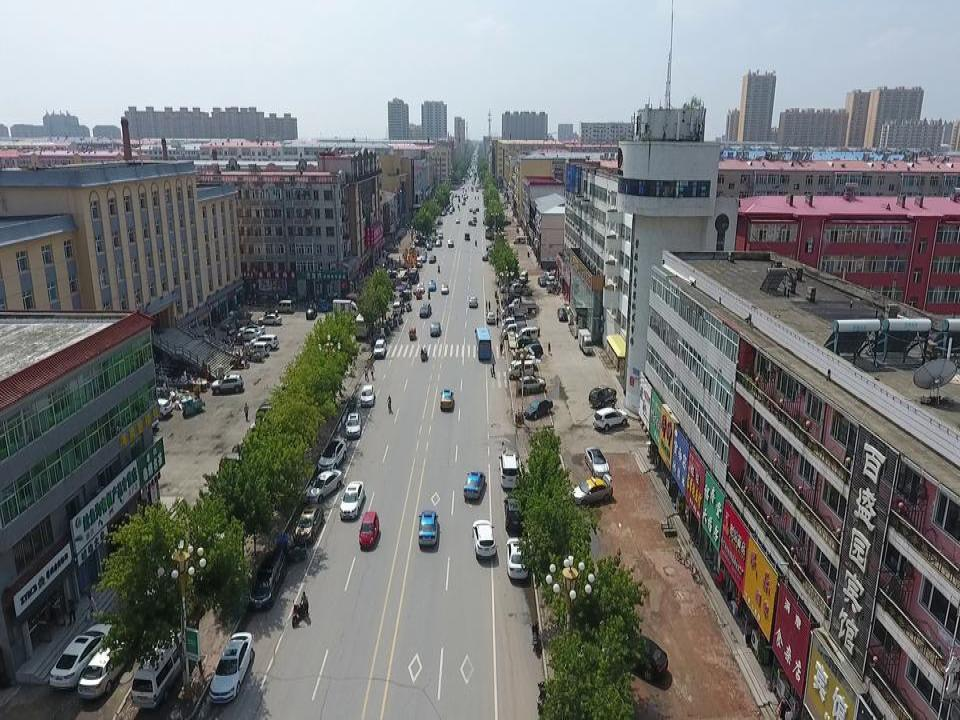bus: (352, 301, 372, 338), (474, 326, 492, 362), (484, 225, 491, 239)
car: (76, 627, 139, 704), (48, 622, 113, 690), (208, 632, 255, 704), (607, 627, 669, 681), (250, 548, 286, 612), (302, 469, 343, 504), (572, 476, 613, 508), (294, 504, 324, 545), (317, 436, 348, 473), (471, 519, 497, 560), (339, 480, 364, 520), (506, 536, 529, 579), (503, 495, 528, 532), (584, 446, 611, 478), (593, 408, 628, 432), (498, 452, 520, 489), (142, 396, 172, 423), (358, 512, 379, 549), (463, 468, 487, 500), (523, 396, 553, 421), (417, 511, 439, 545), (589, 382, 617, 407), (210, 374, 244, 393), (519, 374, 547, 393), (518, 342, 544, 358), (509, 362, 534, 378), (346, 411, 361, 437), (250, 336, 278, 349), (501, 293, 523, 308), (361, 384, 375, 407), (440, 388, 454, 411), (236, 324, 265, 335), (372, 337, 386, 359), (504, 312, 527, 325), (514, 339, 537, 352), (257, 314, 281, 326), (236, 329, 261, 340), (518, 328, 539, 340), (250, 343, 269, 356), (499, 280, 517, 293), (429, 322, 441, 338), (419, 303, 432, 317), (556, 307, 568, 321), (392, 300, 401, 316), (306, 308, 317, 320), (468, 295, 478, 308), (385, 313, 393, 328), (543, 271, 555, 281), (486, 310, 495, 322), (441, 282, 449, 294), (427, 280, 437, 289), (537, 276, 547, 285), (417, 281, 425, 292), (428, 255, 436, 264), (487, 248, 496, 256), (435, 237, 441, 247), (472, 205, 478, 215), (419, 256, 426, 264), (436, 218, 443, 226), (482, 254, 489, 262), (421, 251, 427, 260), (469, 220, 476, 227), (447, 239, 454, 246), (464, 232, 470, 240), (426, 242, 432, 250), (486, 243, 492, 250), (456, 217, 461, 223), (472, 216, 477, 221), (468, 205, 472, 211), (475, 207, 479, 212)
truck: (331, 298, 358, 318), (507, 298, 539, 314), (578, 328, 593, 353), (502, 317, 526, 332), (504, 323, 527, 337), (510, 283, 531, 293), (408, 265, 419, 283)
van: (132, 628, 191, 712), (217, 448, 252, 476), (276, 532, 306, 561), (257, 404, 292, 427), (275, 299, 293, 313), (518, 269, 529, 284), (513, 235, 527, 244), (416, 256, 422, 268), (438, 231, 443, 240)
